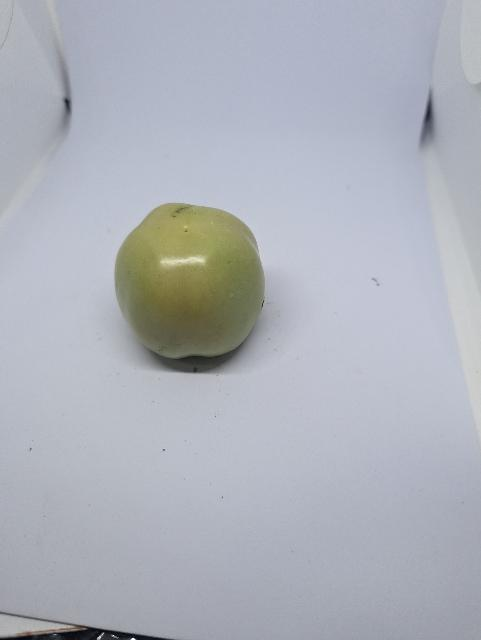green: (112, 198, 269, 362)
